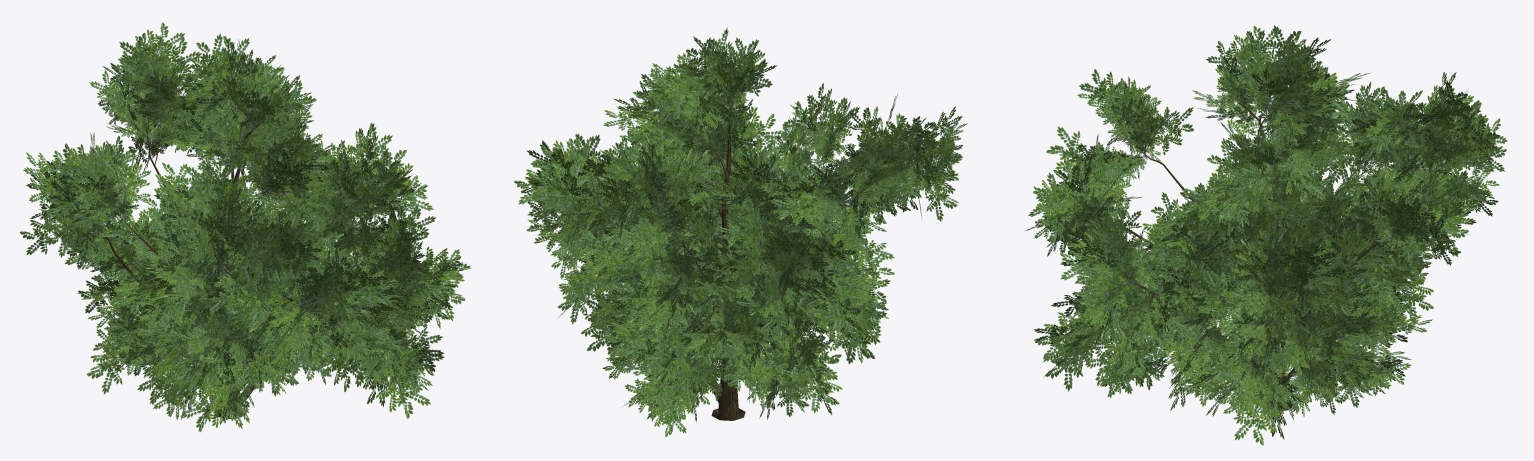
The model's file is trees_a.glb.
3 views of the same model, side by side, from view 1: azimuth 30°, elevation 25°; view 2: azimuth 150°, elevation 25°; view 3: azimuth 270°, elevation 25° (orthographic). The views are drawn at different scales.
Parts seen in each view (by area): view 1: Mesh_1, Mesh_0; view 2: Mesh_1, Mesh_0; view 3: Mesh_1, Mesh_0.
Part boxes in pixels (box(x1,y1,x2,y2)): Mesh_1: box(19, 22, 470, 432); Mesh_0: box(91, 99, 395, 418); Mesh_1: box(514, 27, 967, 436); Mesh_0: box(583, 84, 921, 420); Mesh_1: box(1025, 25, 1507, 445); Mesh_0: box(1085, 91, 1438, 410).
Bounding box in the file's own units: 1.05 × 1 × 1.16.
Materials: 2 (2 with a texture image).
